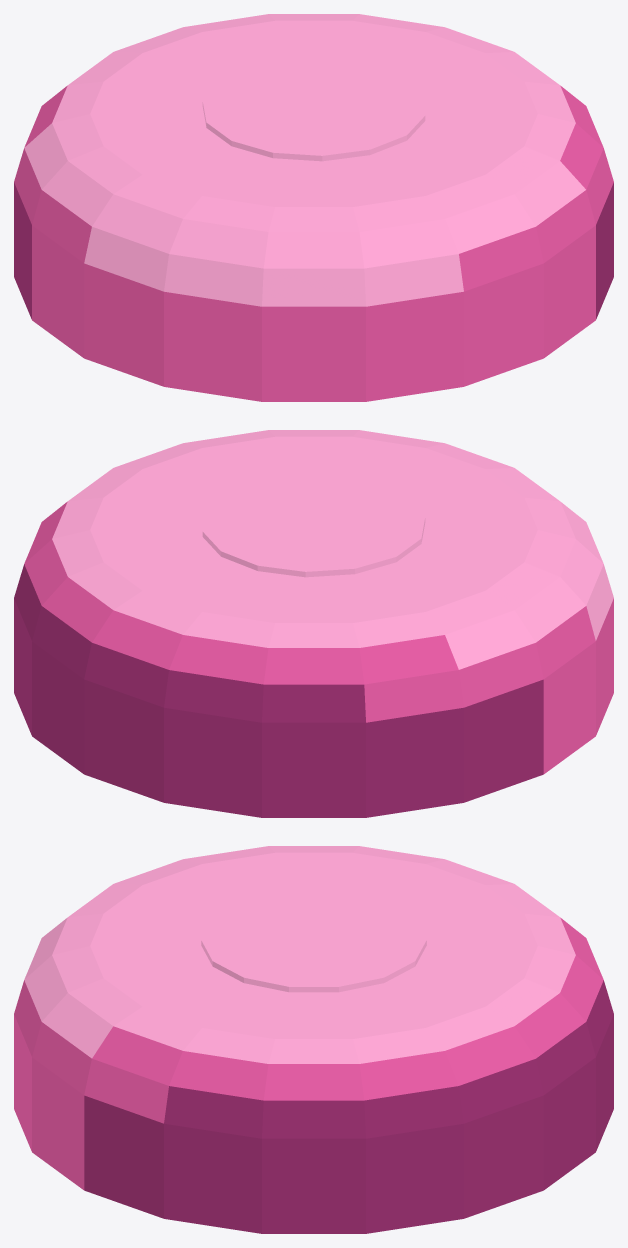
File: Plate3D_LatchPad.gltf
The picture shows the model from 3 angles, top to bottom: view 1: azimuth 30°, elevation 25°; view 2: azimuth 150°, elevation 25°; view 3: azimuth 270°, elevation 25°; orthographic projection.
Parts seen in each view (by area): view 1: Plate3D_LatchPad_baked; view 2: Plate3D_LatchPad_baked; view 3: Plate3D_LatchPad_baked.
Boxes of the visible parts, x1,y1,x2,y2 form: Plate3D_LatchPad_baked: (14,14,613,401); Plate3D_LatchPad_baked: (14,430,613,817); Plate3D_LatchPad_baked: (14,846,613,1233).
Bounding box in the file's own units: 0.3939 × 0.124 × 0.4.
